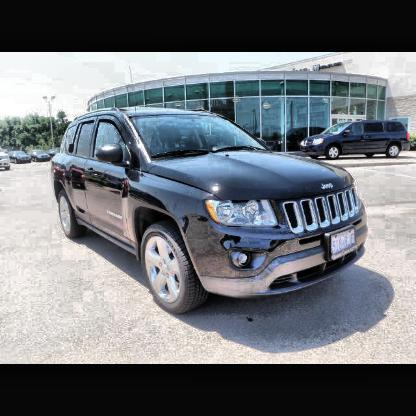Jeep Compass SUV 2012: (53, 108, 367, 316)
